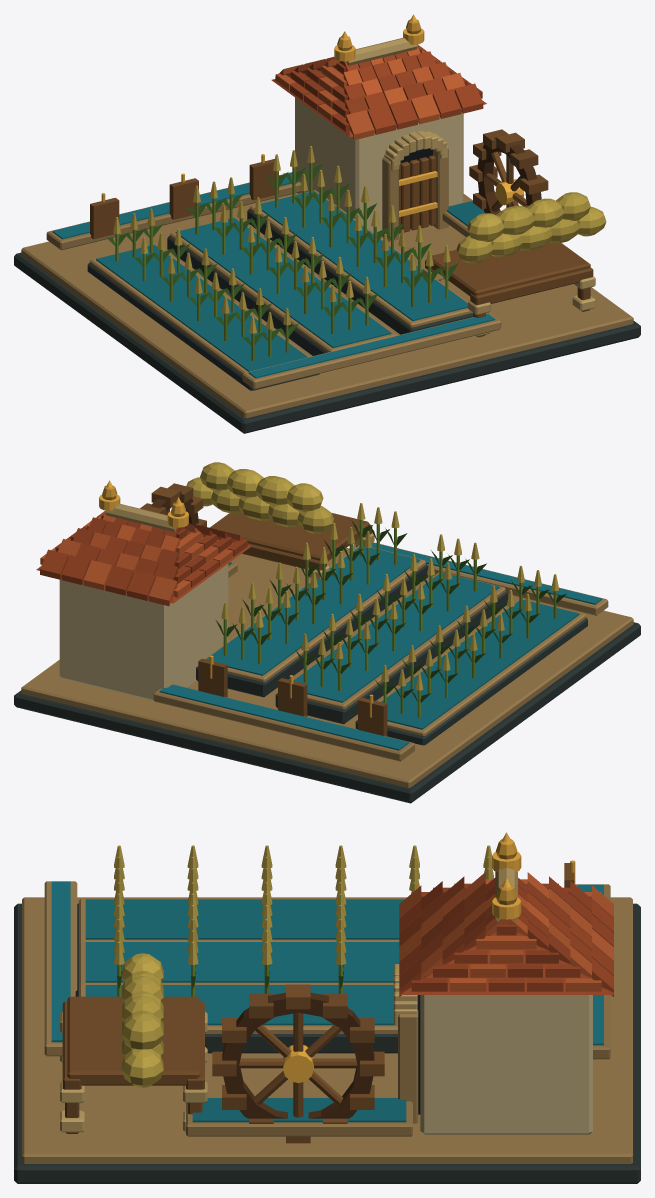
3 renders of one model, top to bottom at view 1: azimuth 30°, elevation 25°; view 2: azimuth 150°, elevation 25°; view 3: azimuth 270°, elevation 25°, orthographic. The views are drawn at different scales.
Parts seen in each view (by area): view 1: farm_5_structure, farm_5_metal; view 2: farm_5_structure, farm_5_metal; view 3: farm_5_structure, farm_5_metal.
Boxes of the visible parts, x1=… form: farm_5_structure: x1=14, y1=19, x2=640, y2=433; farm_5_metal: x1=101, y1=14, x2=524, y2=217; farm_5_structure: x1=14, y1=462, x2=640, y2=803; farm_5_metal: x1=99, y1=480, x2=373, y2=717; farm_5_structure: x1=14, y1=839, x2=640, y2=1183; farm_5_metal: x1=283, y1=832, x2=575, y2=1082.
Bounding box in the file's own units: 5.6 × 2.65 × 5.46.
